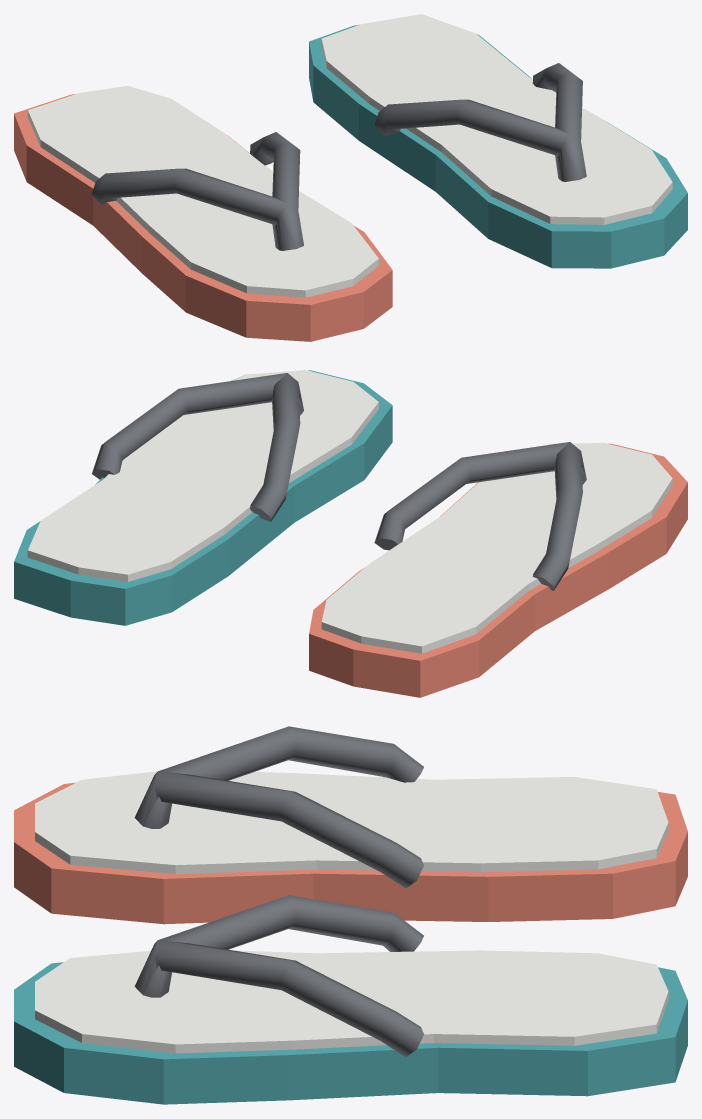
File: beach-surf-and-paddle-kit-flip-flop-pair-6ad0a85a__39446.glb
3 renders of one model, top to bottom at view 1: azimuth 30°, elevation 25°; view 2: azimuth 150°, elevation 25°; view 3: azimuth 270°, elevation 25°, orthographic. The views are drawn at different scales.
Parts seen in each view (by area): view 1: flip-flop-pair-foam, flip-flop-pair-coral, flip-flop-pair-teal, flip-flop-pair-charcoal; view 2: flip-flop-pair-foam, flip-flop-pair-charcoal, flip-flop-pair-coral, flip-flop-pair-teal; view 3: flip-flop-pair-foam, flip-flop-pair-teal, flip-flop-pair-charcoal, flip-flop-pair-coral.
Boxes of the visible parts, x1,y1,x2,y2 form: flip-flop-pair-foam: [27, 14, 672, 297]; flip-flop-pair-coral: [14, 94, 392, 341]; flip-flop-pair-teal: [309, 24, 687, 268]; flip-flop-pair-charcoal: [92, 63, 586, 250]; flip-flop-pair-foam: [27, 370, 672, 653]; flip-flop-pair-charcoal: [92, 373, 586, 590]; flip-flop-pair-coral: [309, 443, 687, 697]; flip-flop-pair-teal: [14, 370, 392, 625]; flip-flop-pair-foam: [35, 771, 668, 1053]; flip-flop-pair-teal: [14, 962, 687, 1104]; flip-flop-pair-charcoal: [134, 726, 423, 1056]; flip-flop-pair-coral: [14, 782, 687, 924].
Size of the model in its own units: 0.272 by 0.0519 by 0.27.
